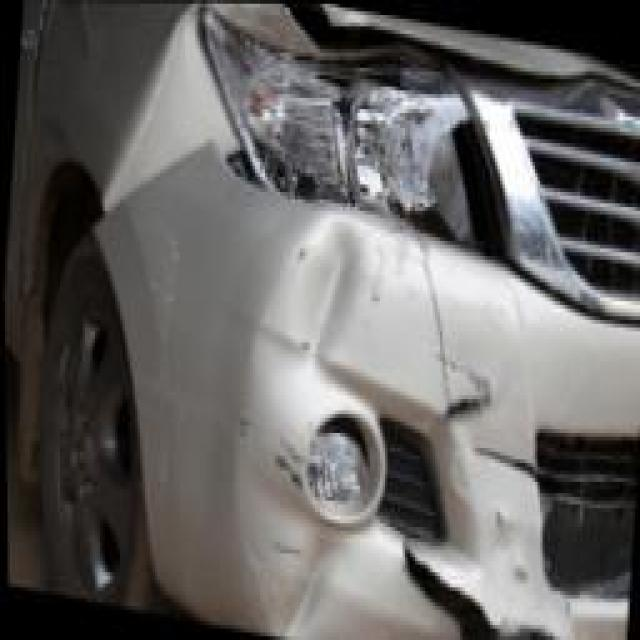Bonnet: (279, 2, 640, 89)
Bumper: (92, 133, 577, 640)
